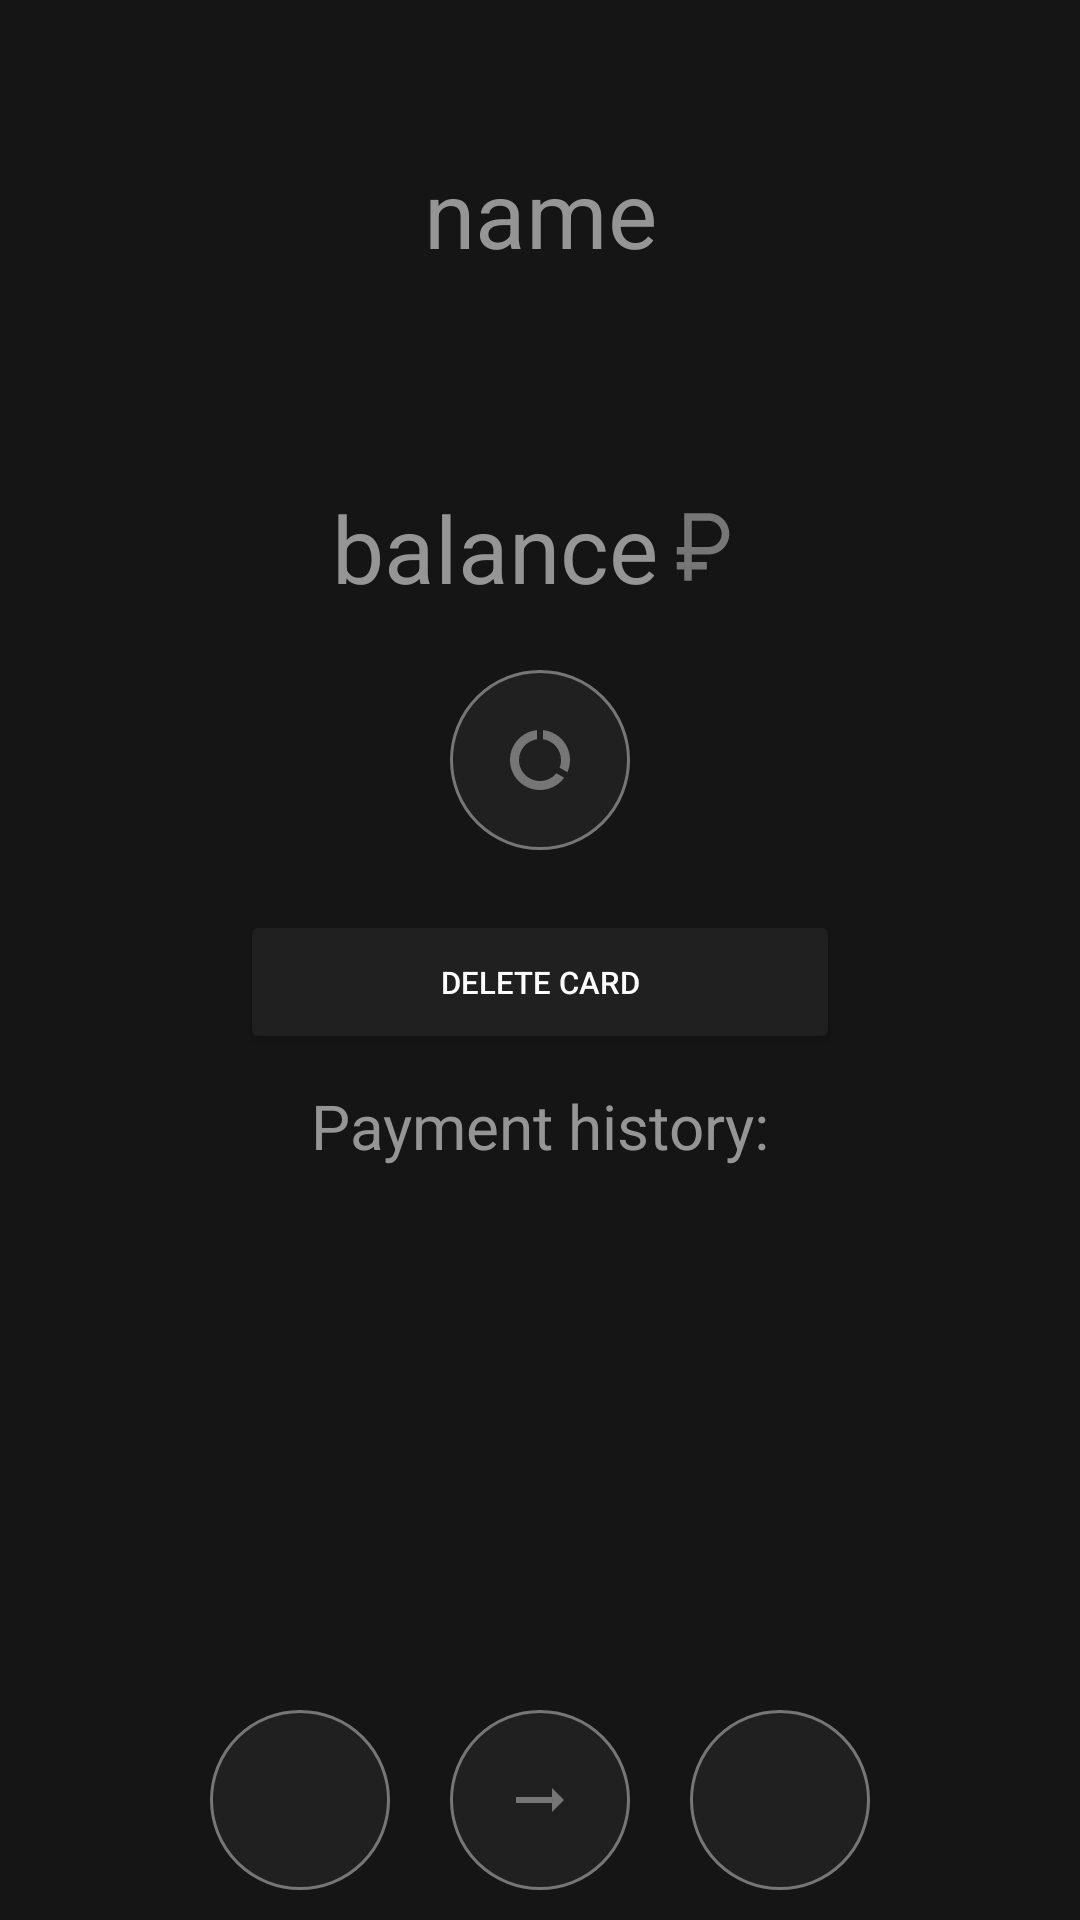

Locate icon controls on the screen. Image size 1080px x 1920px, boxes as {"x1": x1, "y1": y1, "x2": x2, "y2": y2}.
arrow: {"x1": 450, "y1": 1710, "x2": 630, "y2": 1890}
ruble: {"x1": 676, "y1": 513, "x2": 730, "y2": 581}
